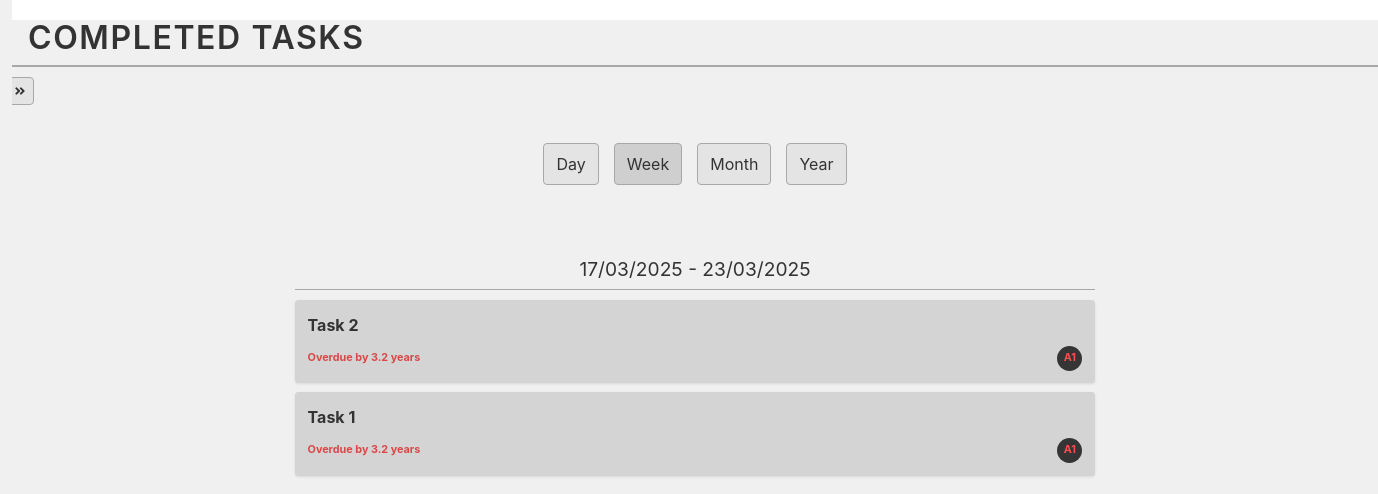
Test case: CompletedTasks Component › changes grouping when filter is switched to 'Day'
Expected: the text "17/03/2025 - 23/03/2025" is shown, [295,255,1095,290]
Click the text "Day": (571, 164) [544,143,599,185]
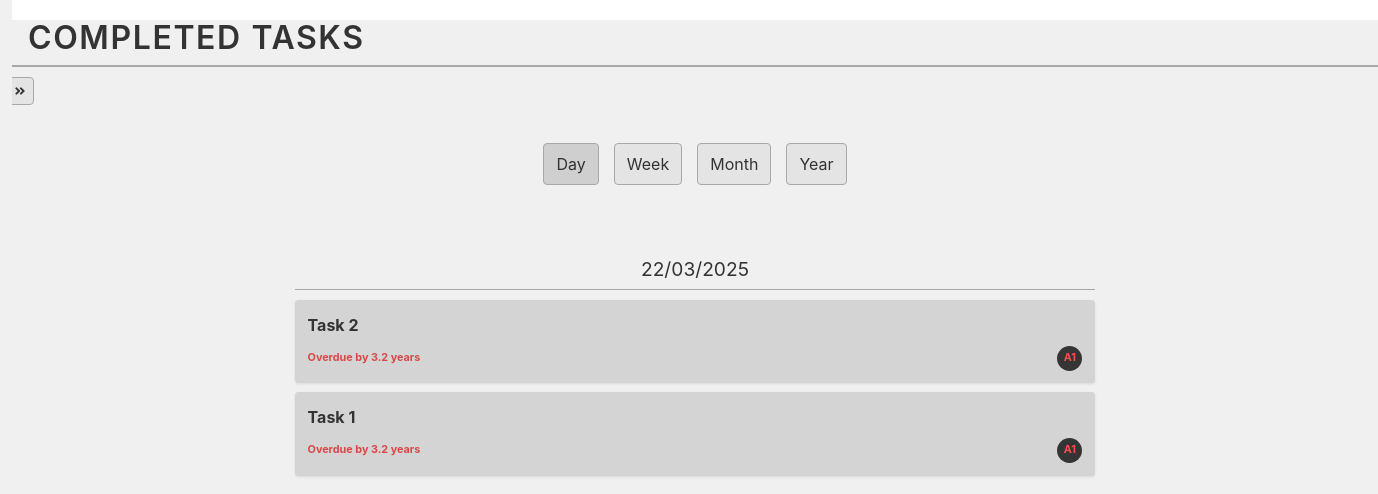
Now the text "22/03/2025" is shown, box [295,255,1095,290]
Now the text "17/03/2025 - 23/03/2025" is gone
